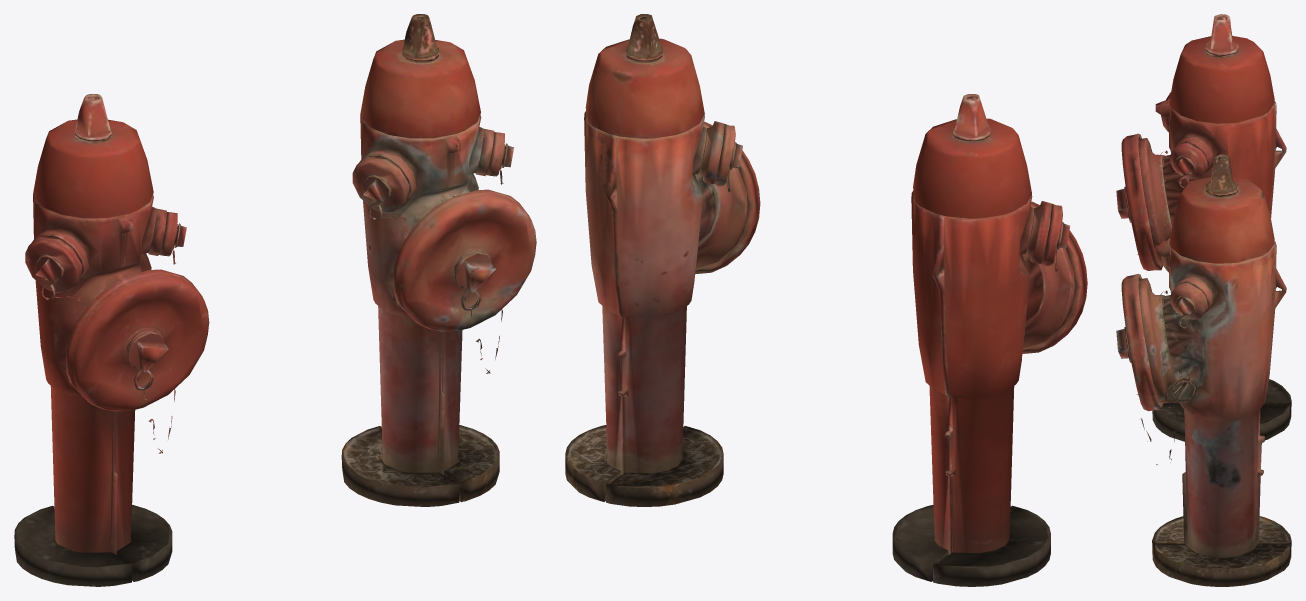
File: hydrant.glb
3 renders of one model, left to right at view 1: azimuth 30°, elevation 25°; view 2: azimuth 150°, elevation 25°; view 3: azimuth 270°, elevation 25°, orthographic. The views are drawn at different scales.
Parts seen in each view (by area): view 1: fire_hydrant, fire_hydrant_aged; view 2: fire_hydrant, fire_hydrant_aged; view 3: fire_hydrant_aged, fire_hydrant.
Boxes of the visible parts, left/top/right/bottom form: fire_hydrant: left=14, top=94, right=209, bottom=586; fire_hydrant_aged: left=341, top=14, right=536, bottom=506; fire_hydrant: left=892, top=94, right=1087, bottom=586; fire_hydrant_aged: left=565, top=14, right=760, bottom=506; fire_hydrant_aged: left=1116, top=154, right=1291, bottom=586; fire_hydrant: left=1116, top=14, right=1291, bottom=441.
Size of the model in its own units: 0.8742 by 0.7994 by 0.3173.
2 materials, 2 textured.
